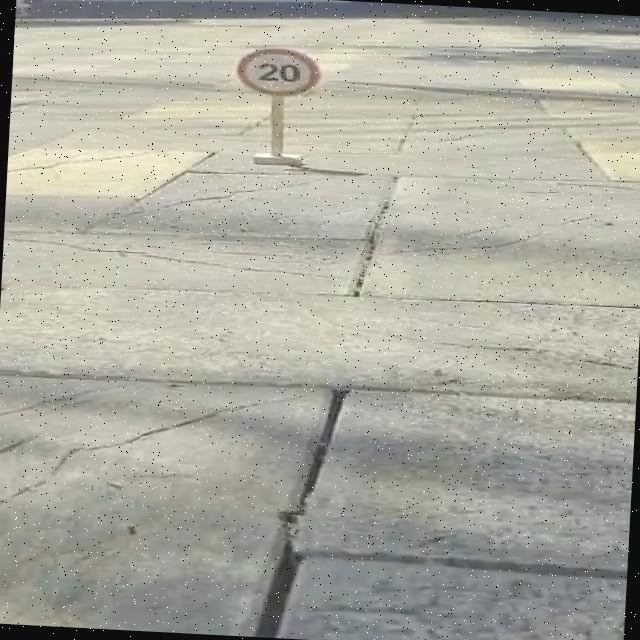Speed20: (219, 40, 335, 104)
